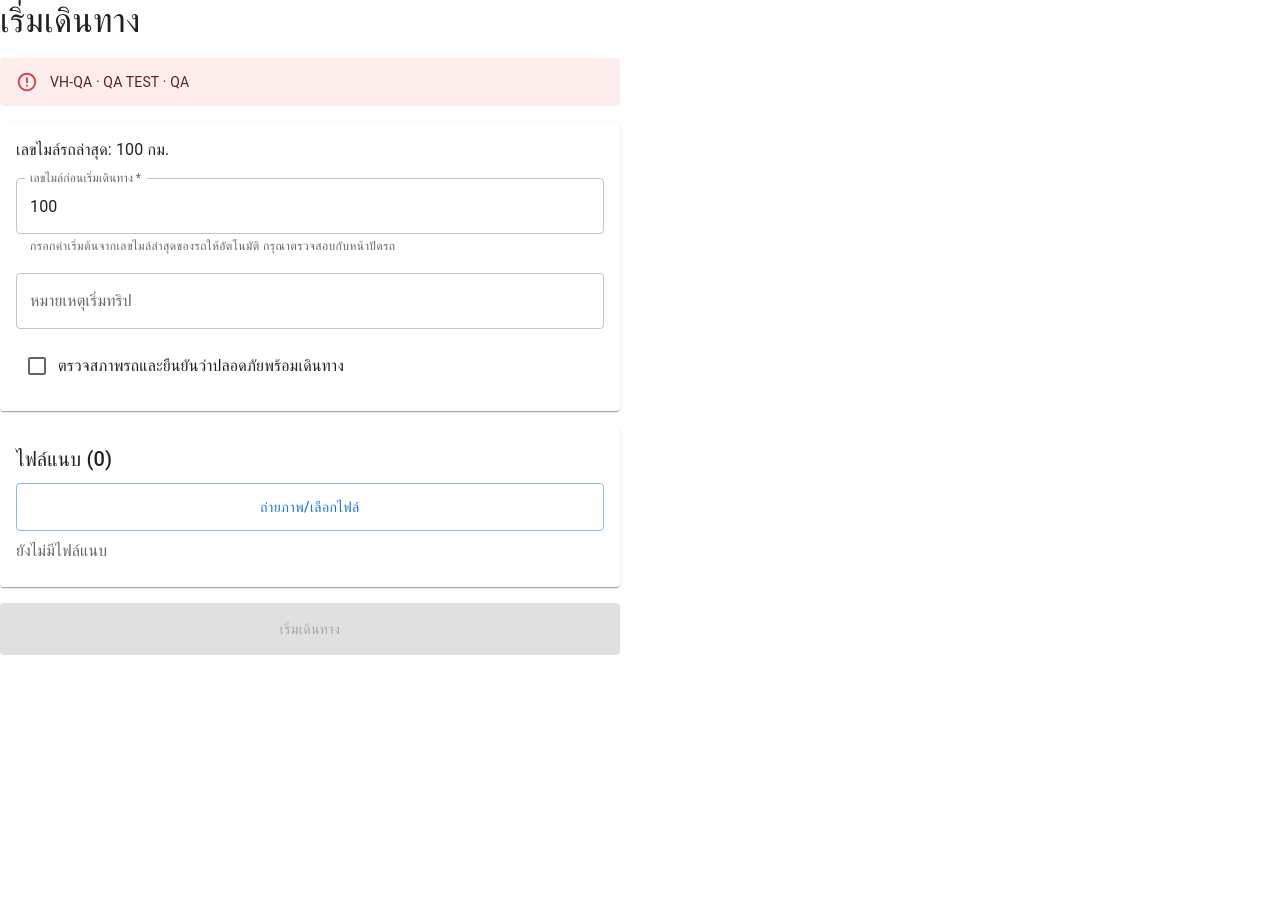
Scenario: Fleet M4.2 mobile driver UI › blocks duplicate action after unknown network result
The image size is (1280, 900).
Expected: the text "VH-QA · QA TEST · QA" is shown, [50, 74, 189, 90]
What coordinates should you click on to do the following:
click the checkbox labelled "ตรวจสภาพรถและยืนยันว่าปลอดภัยพร้อมเดินทาง"
I would click on:
 (184, 366)
Its box is [25, 354, 344, 378].
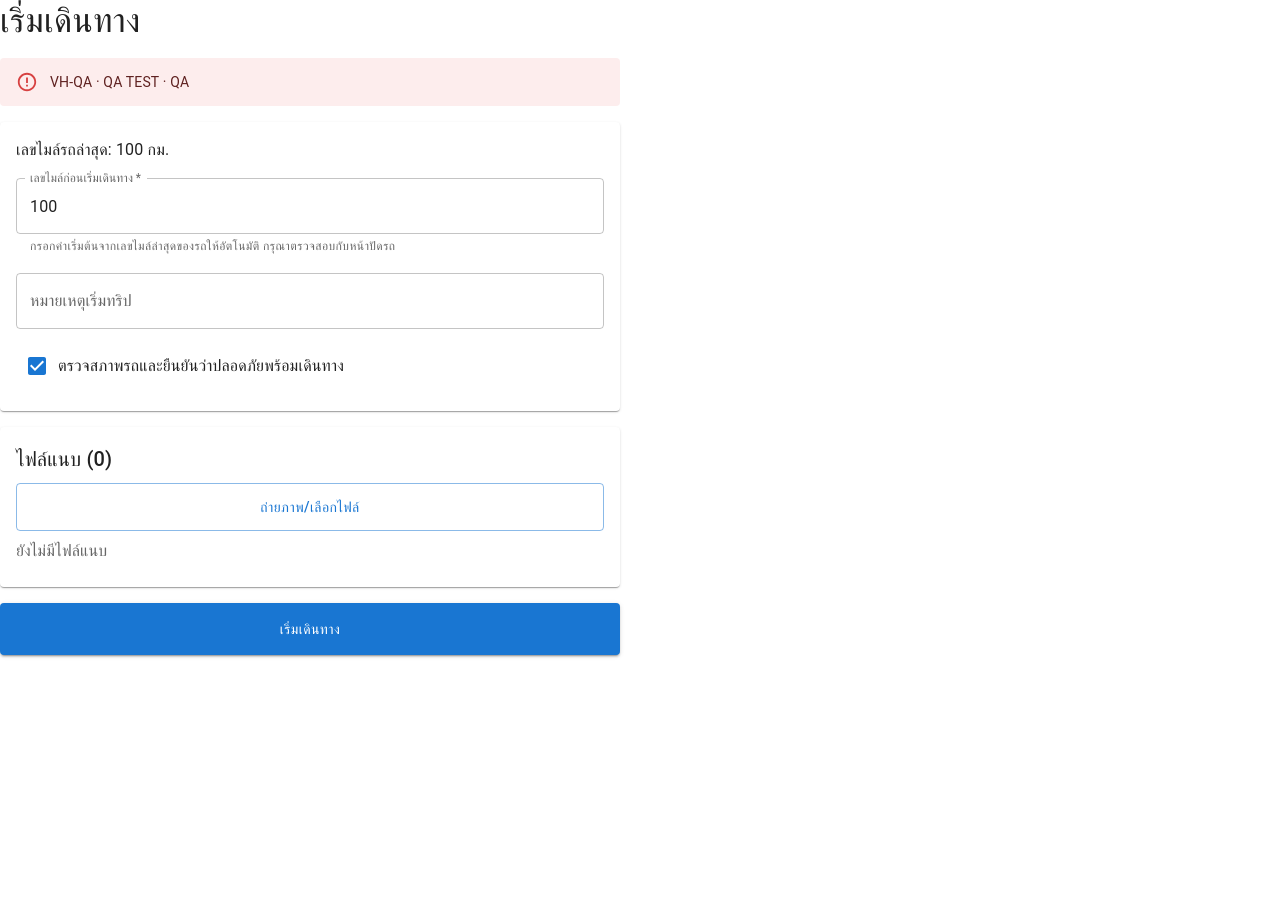
What coordinates should you click on to do the following:
click the button "เริ่มเดินทาง"
I would click on:
 (310, 629)
Its box is [0, 603, 620, 655].
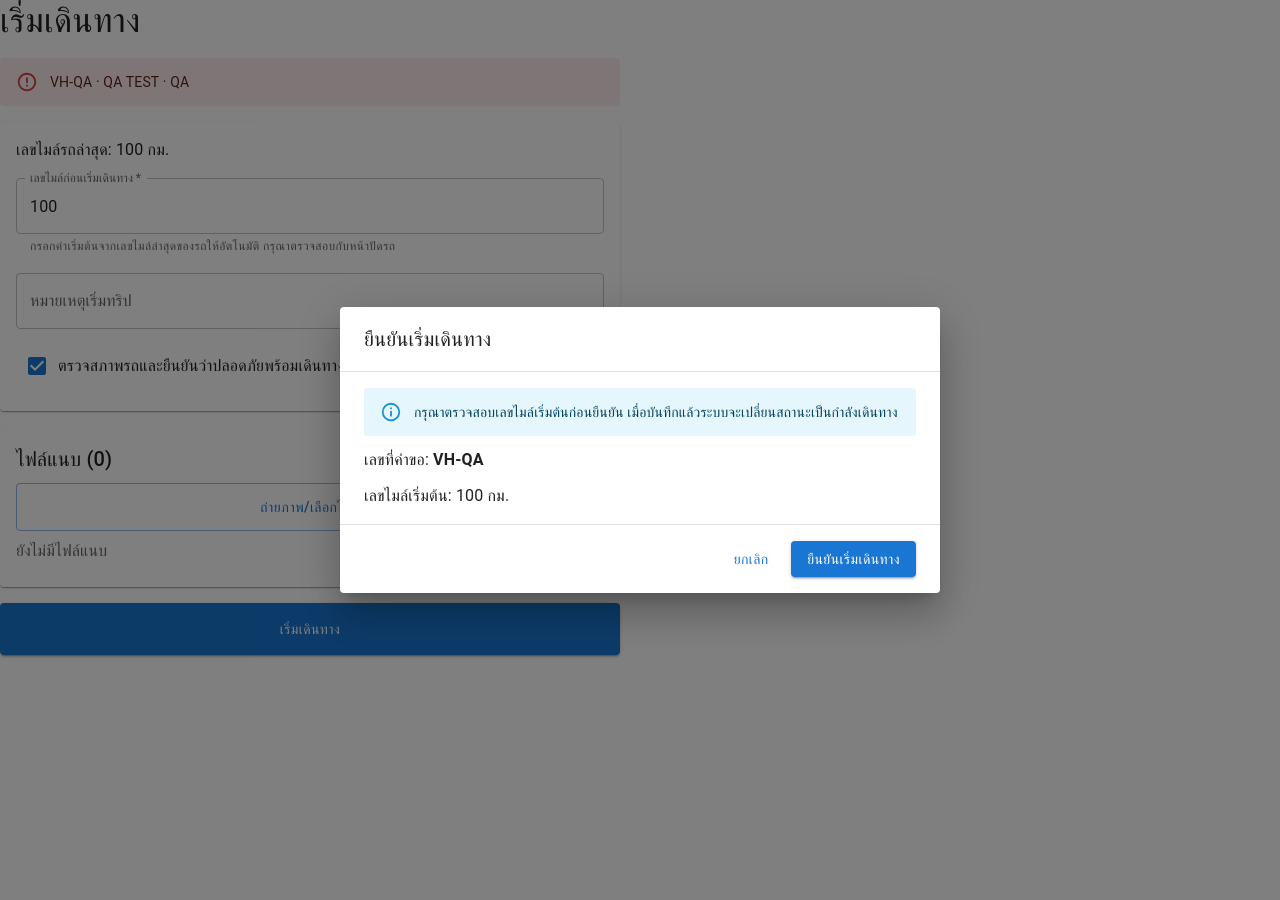
What coordinates should you click on to do the following:
click the button "ยืนยันเริ่มเดินทาง"
I would click on:
 (854, 559)
Its box is [791, 541, 916, 577].
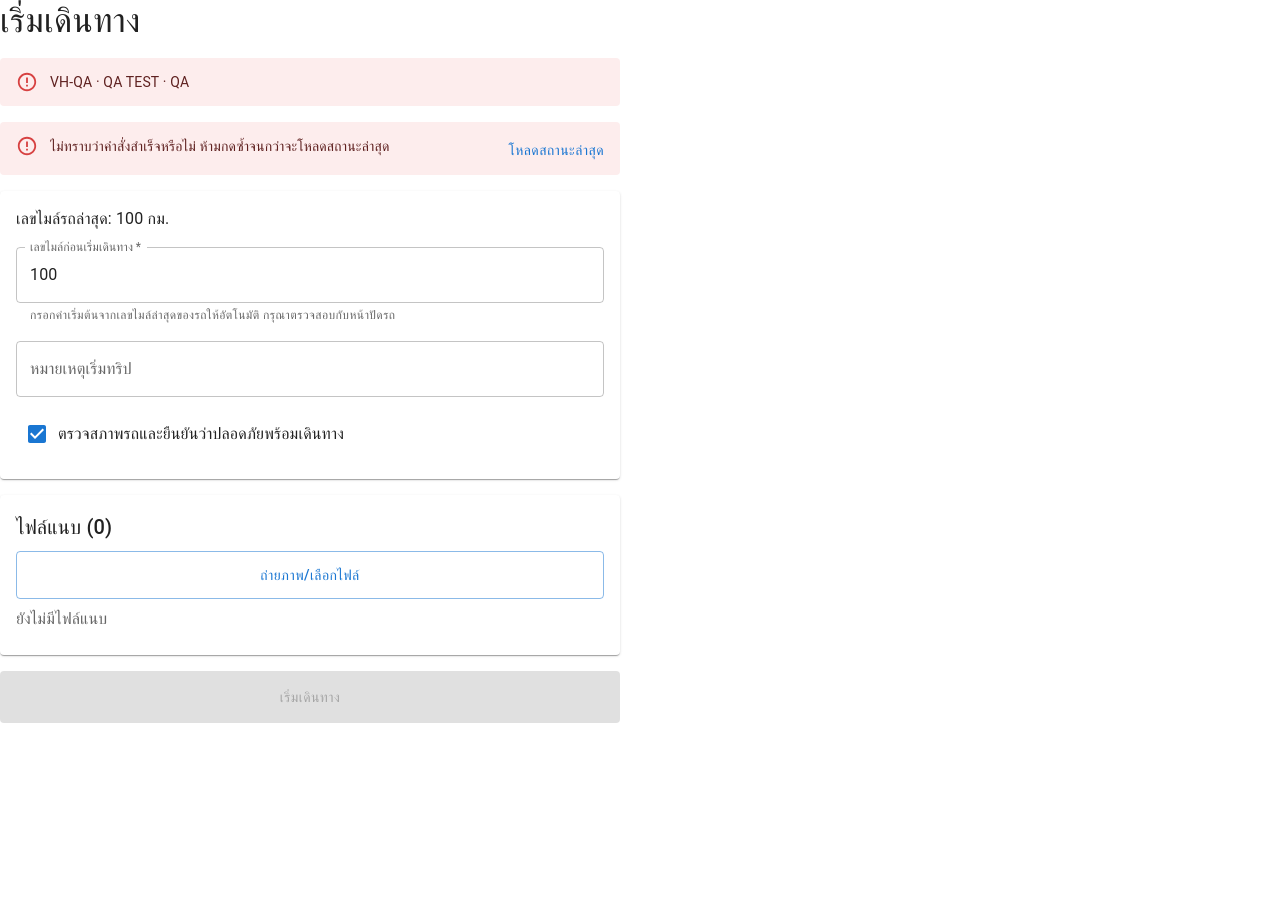
Result: the text "ห้ามกดซ้ำ" is shown at [50, 138, 390, 154]
Result: the dialog is gone
Result: the button "เริ่มเดินทาง" is disabled at [0, 671, 620, 723]
